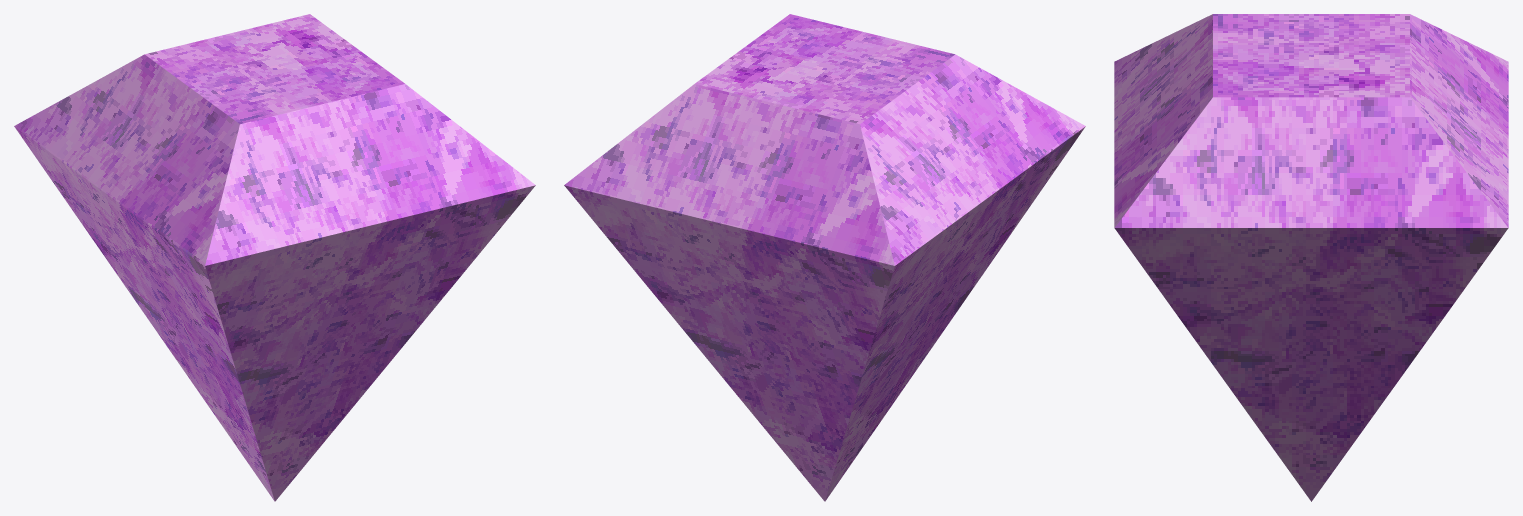
Rendered from prop_diamond.glb.
The picture shows the model from 3 angles, left to right: view 1: azimuth 30°, elevation 25°; view 2: azimuth 150°, elevation 25°; view 3: azimuth 270°, elevation 25°; orthographic projection. The views are drawn at different scales.
Parts seen in each view (by area): view 1: pyramid; view 2: pyramid; view 3: pyramid.
Boxes of the visible parts, x1,y1,x2,y2 form: pyramid: (14,14,535,501); pyramid: (564,14,1085,501); pyramid: (1114,14,1508,501).
Bounding box in the file's own units: 0.5 × 0.625 × 0.5.
Materials: 1 (1 with a texture image).
